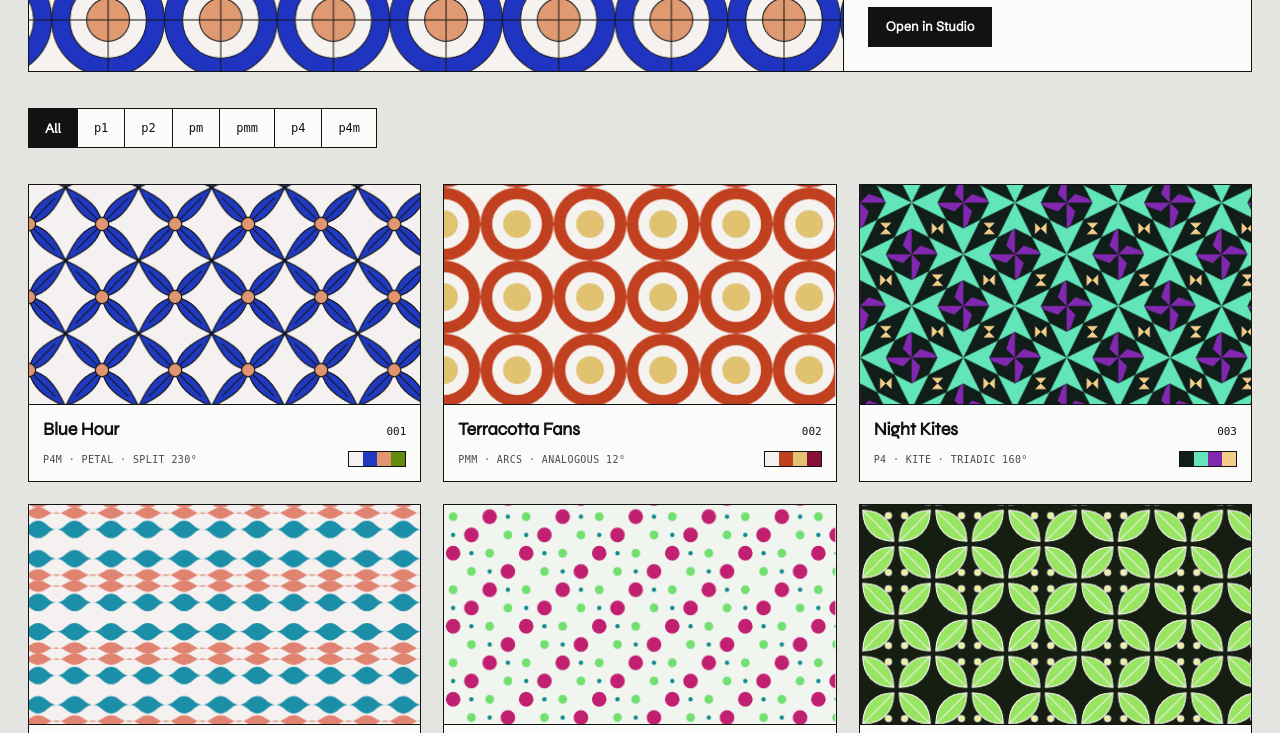
Scenario: Specimens › opens a plate in the Studio
(page scrolled)
Click the link "Night Kites 003 p4 · kite · triadic 160°" at (1055, 333), box [859,184,1252,482]
(page scrolled)
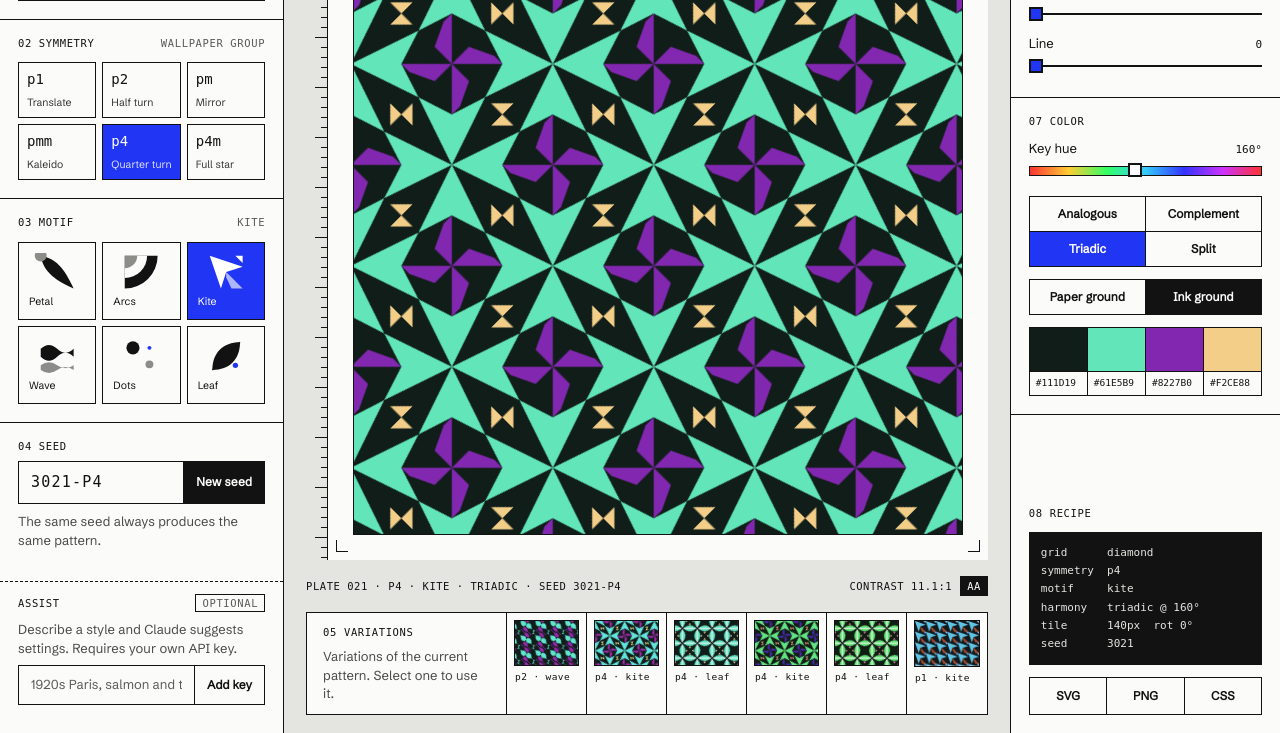
Expected: the element with test id "plate-caption" shows "Plate 021 · p4 · Kite · Triadic", [306,576,988,596]
